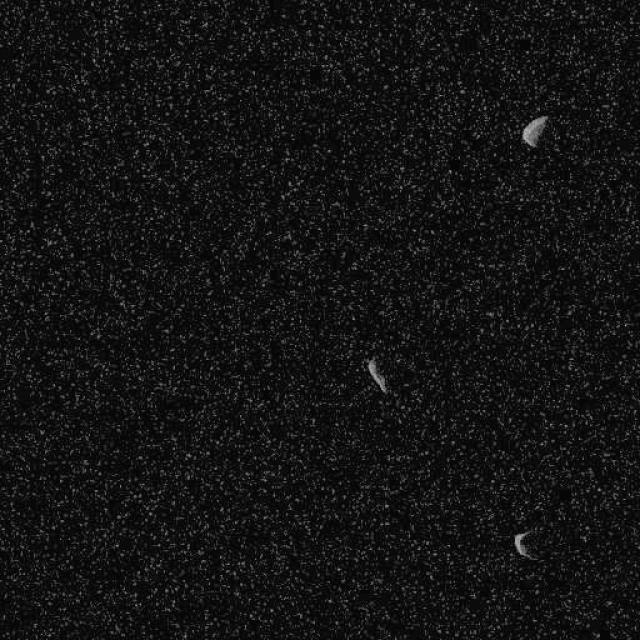D2: (512, 529, 542, 561), (520, 114, 548, 148), (365, 355, 387, 394)
